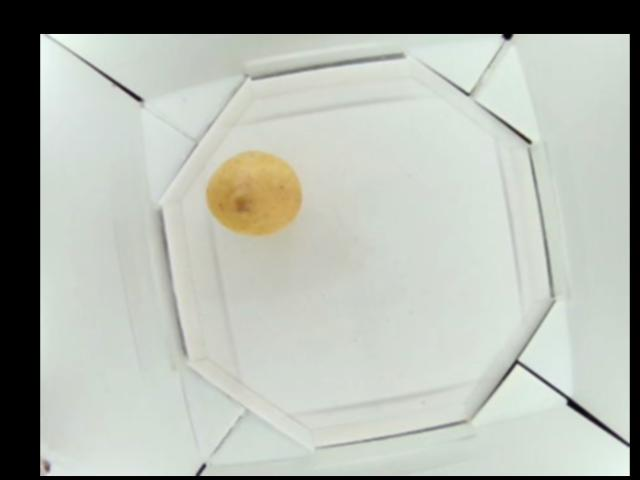Potato: (206, 149, 298, 234)
